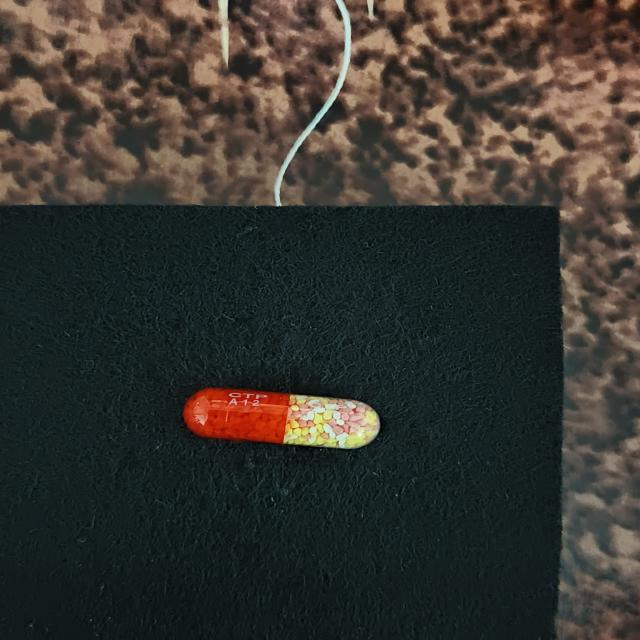Intact Capsule: (183, 387, 380, 449)
